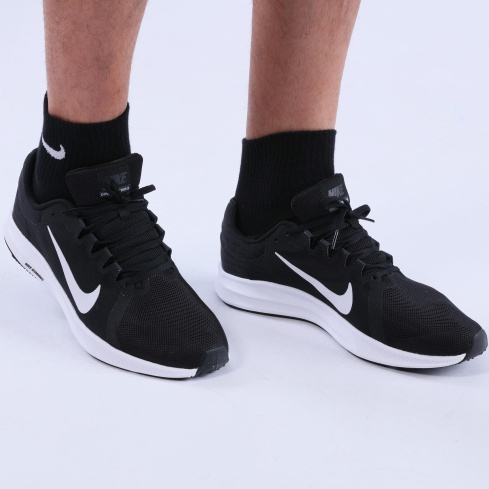nike: (271, 248, 363, 319), (44, 222, 107, 319)
